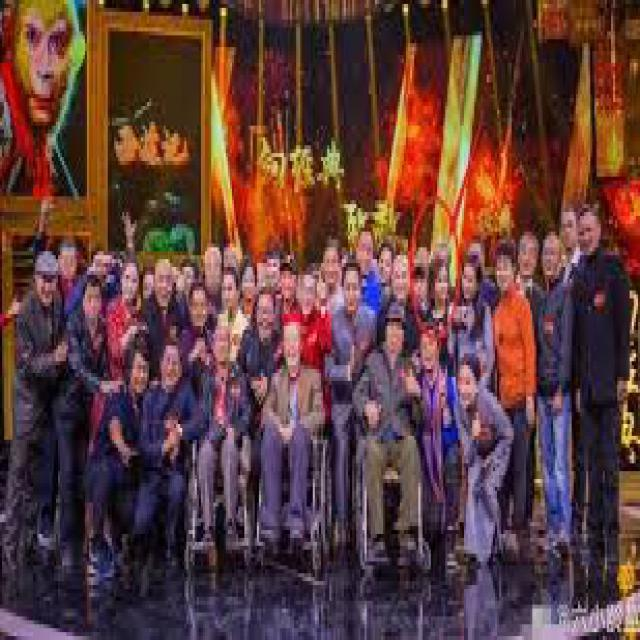wheelchairs: (250, 388, 336, 558), (348, 401, 429, 574), (180, 401, 259, 574)
